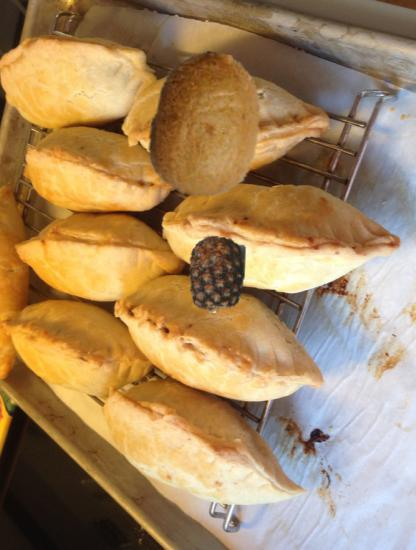Kiwi: (131, 52, 279, 200)
Pineapple: (179, 236, 256, 313)
